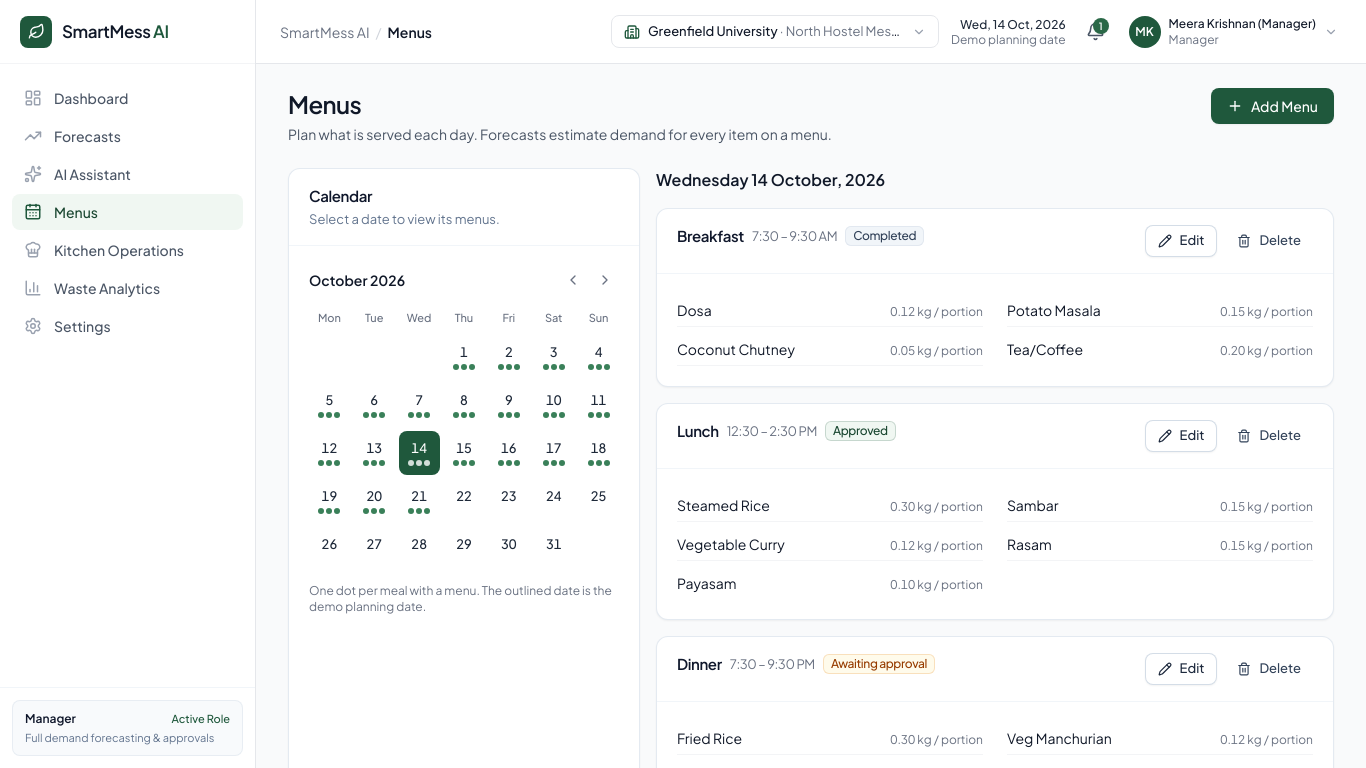
Test: menus › blocks deleting a menu whose plan is approved or completed
Step 1. Click the button with aria-label "Delete Breakfast menu" → [1269, 241], box [1225, 225, 1313, 257]
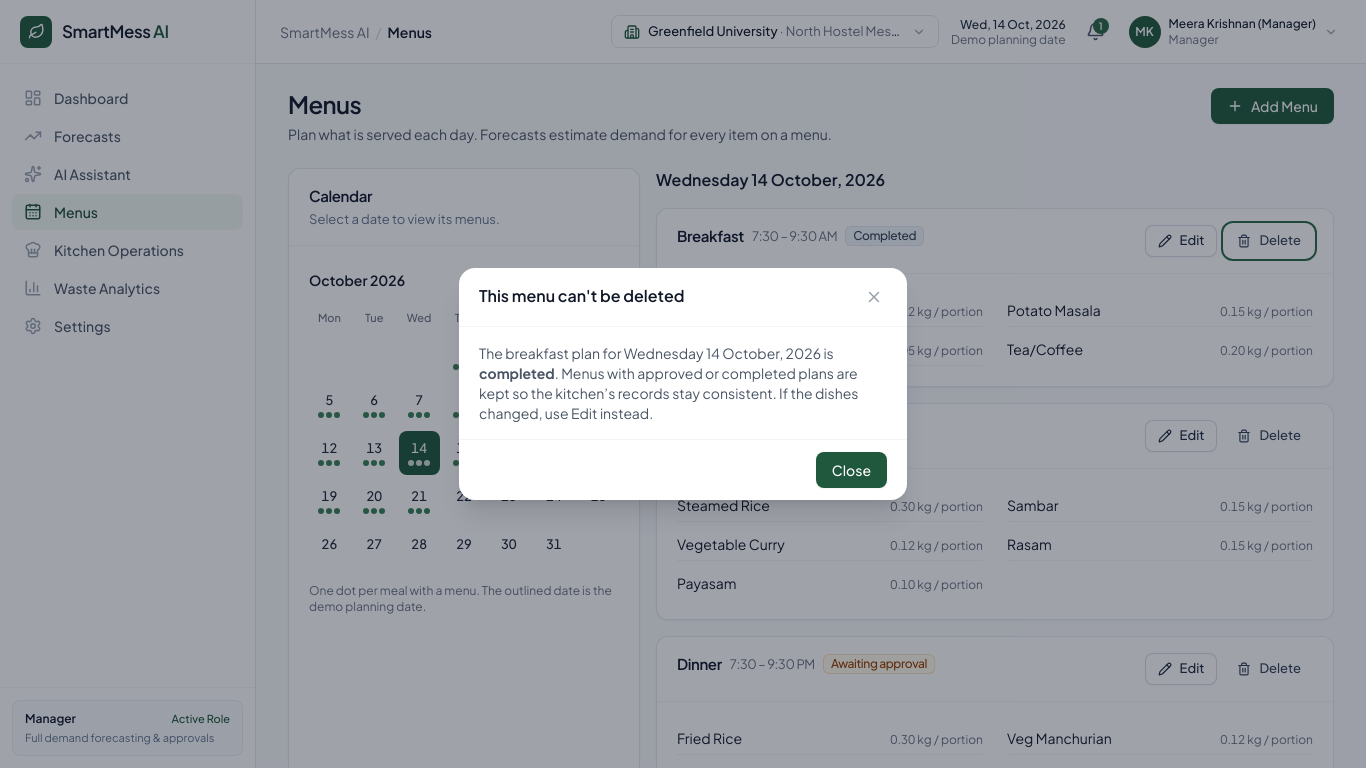
Expected: the heading "This menu can't be deleted" is shown, [479, 284, 684, 308]
Step 2. Click the button "Close" → [851, 470], box [816, 452, 887, 488]
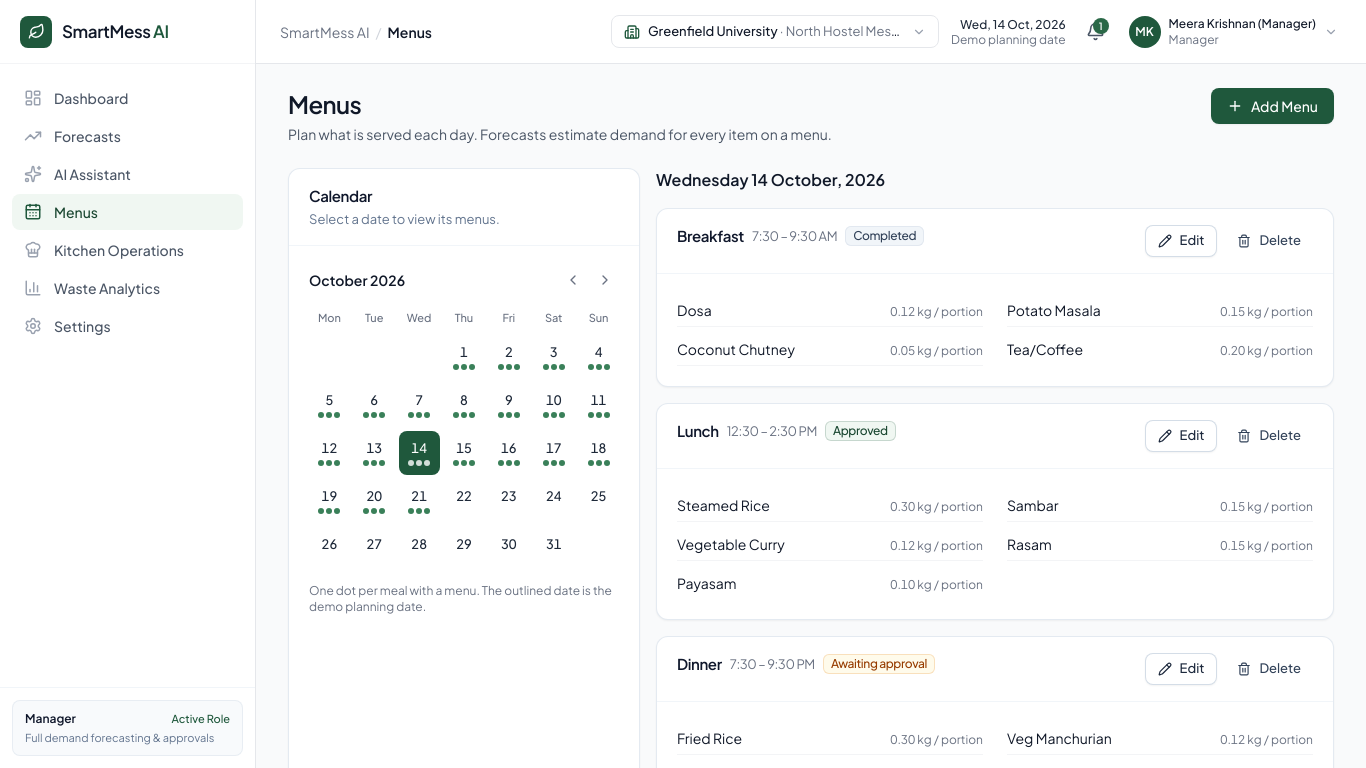
Expected: the button with aria-label "Delete Breakfast menu" is shown, [1225, 225, 1313, 257]
Step 3. Click the button with aria-label "Delete Lunch menu" → [1269, 436], box [1225, 420, 1313, 452]
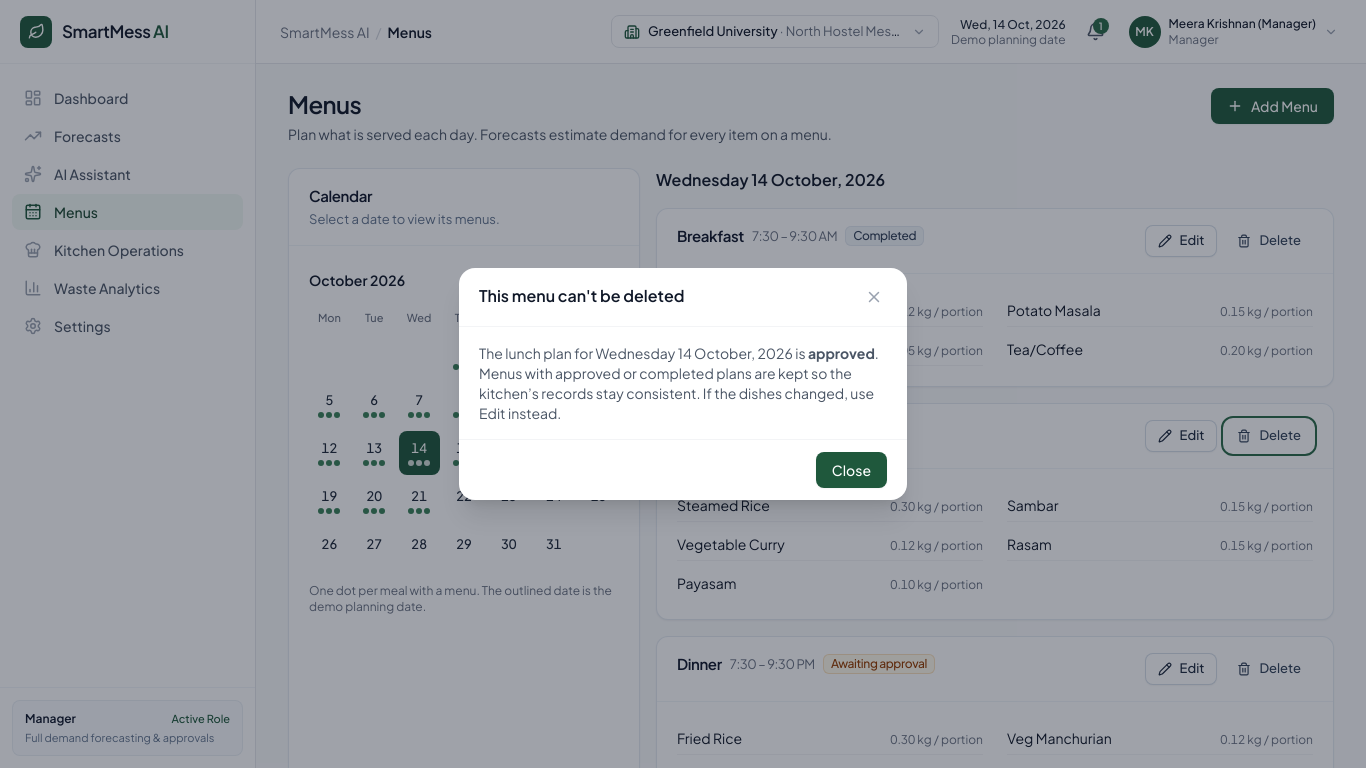
Expected: the text "approved" is shown, [808, 344, 875, 362]
